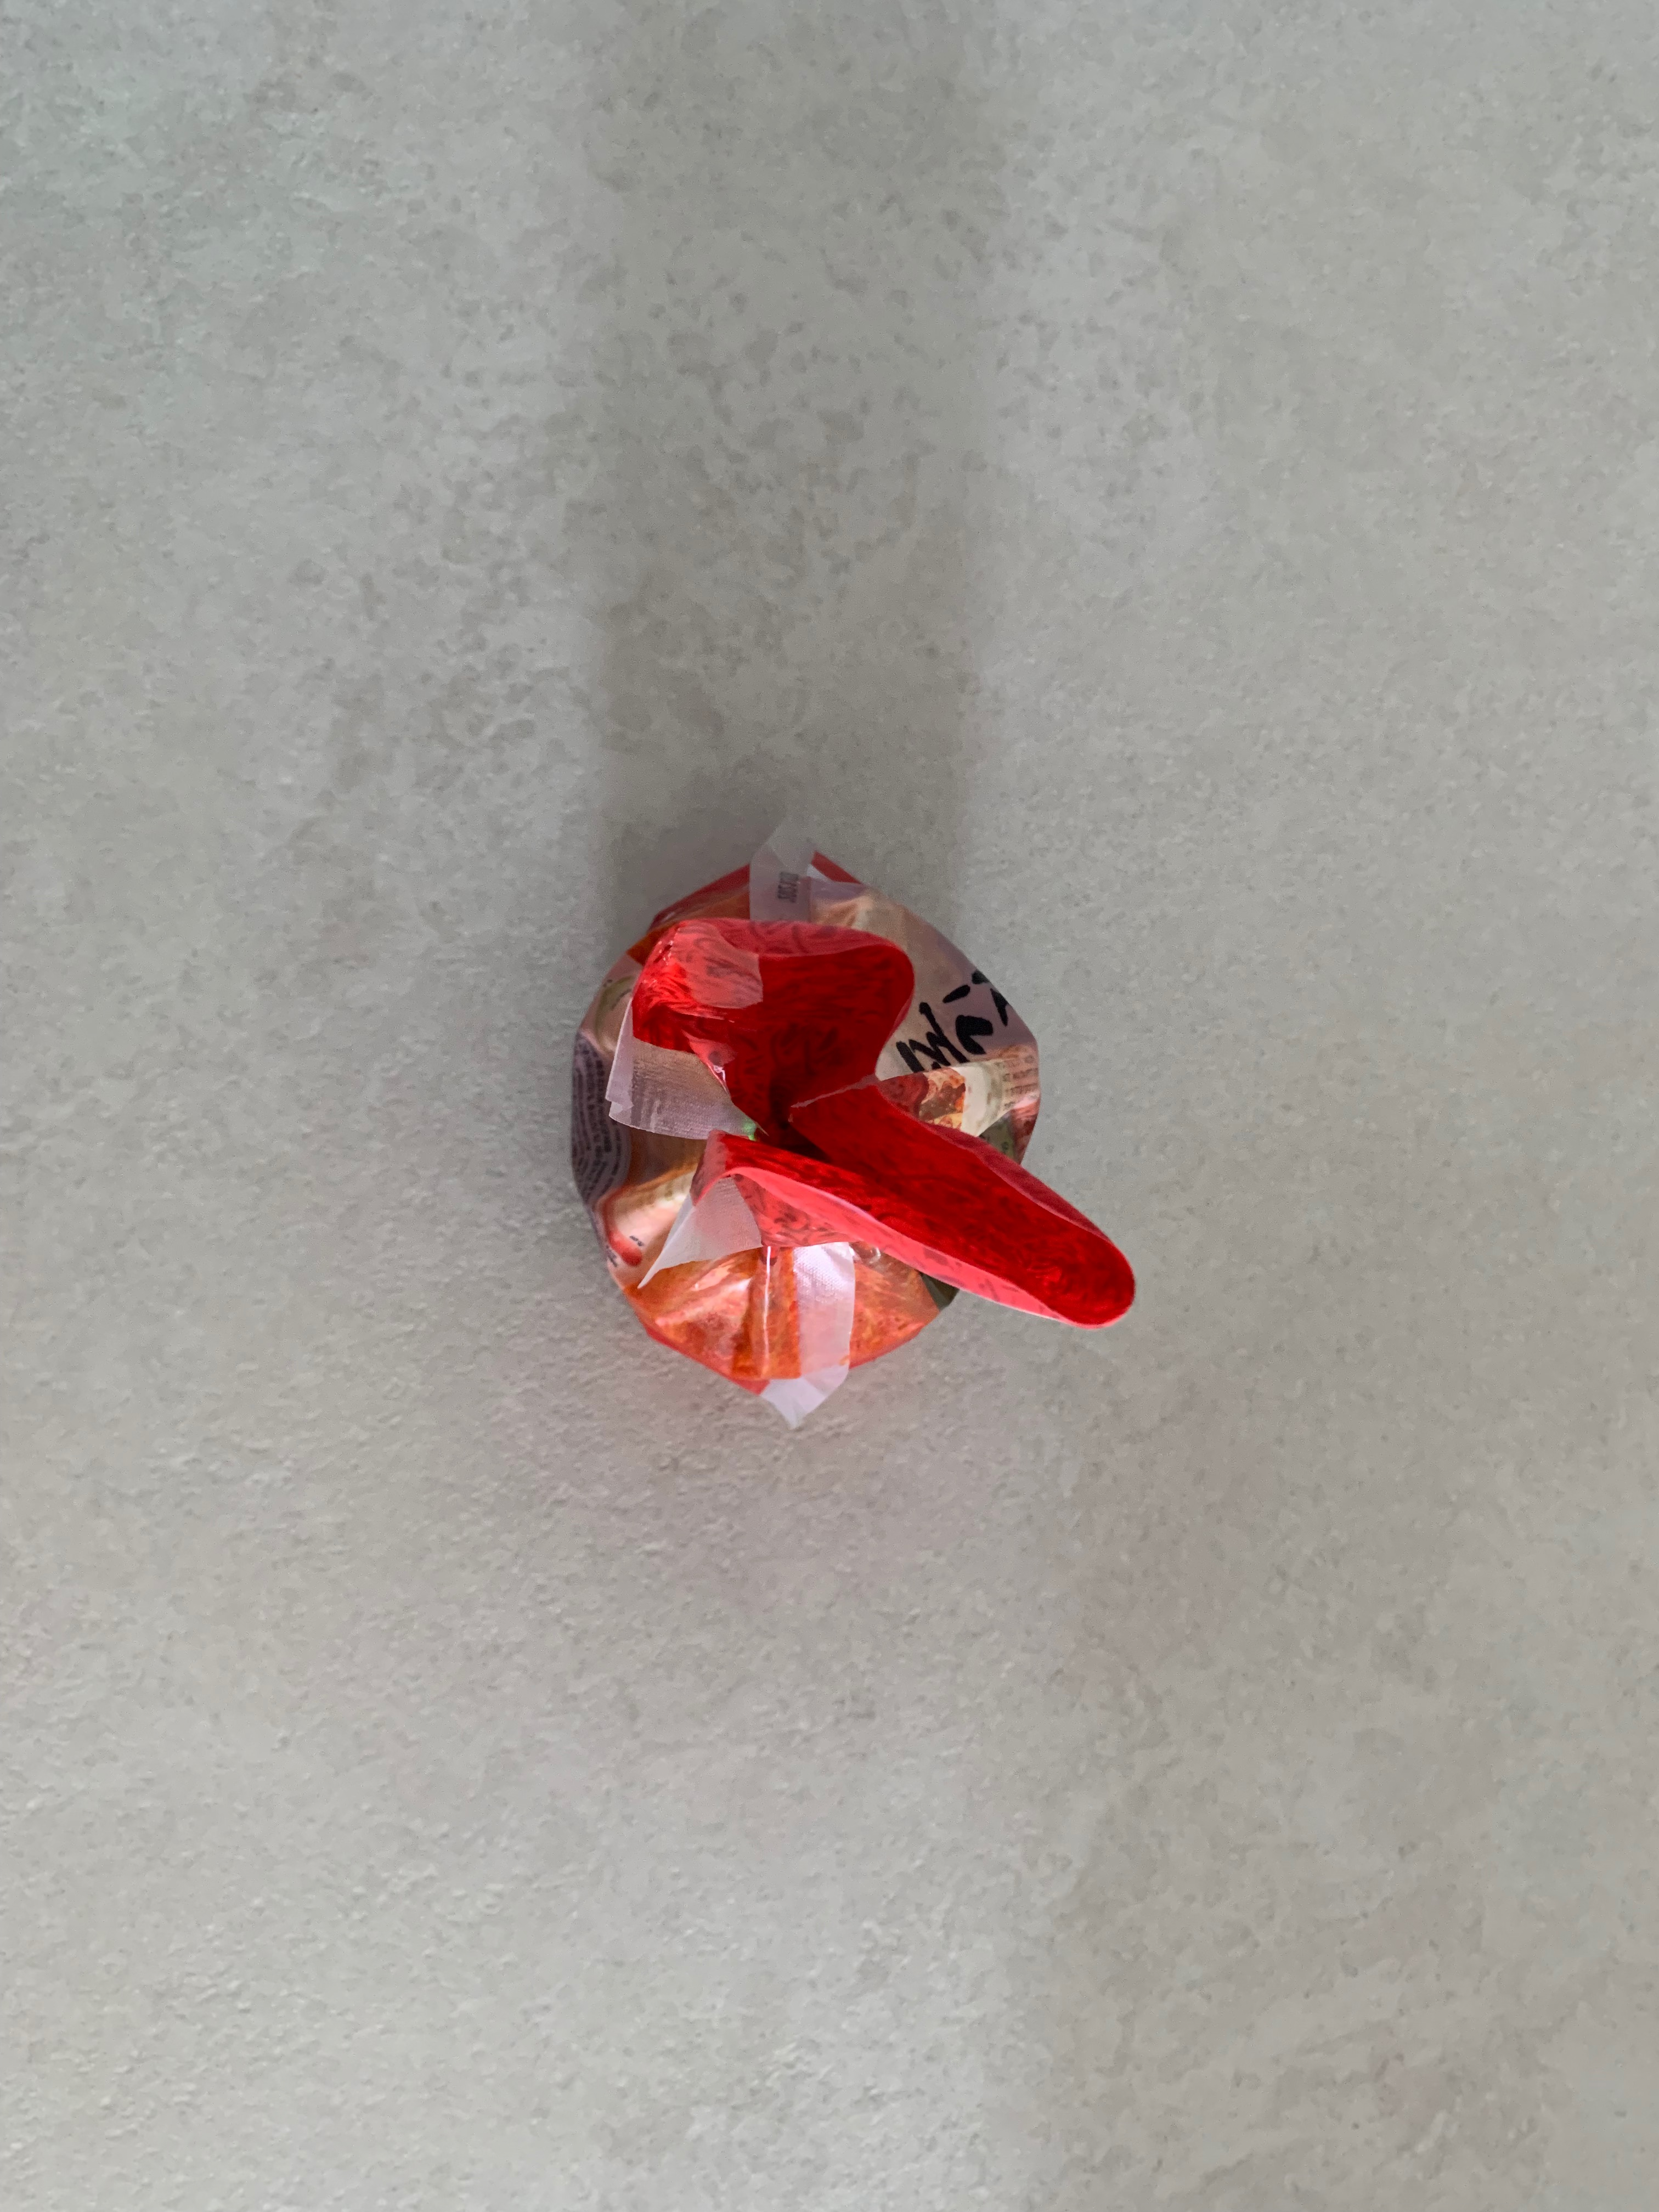kimchi: (568, 857, 1141, 1393)
